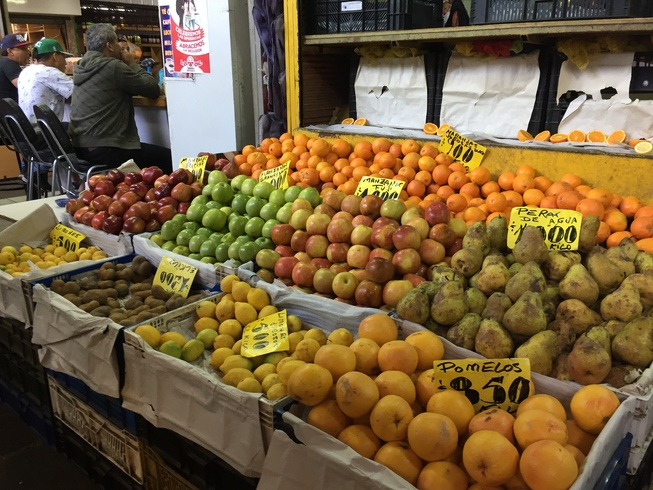precio: (429, 352, 538, 427), (508, 202, 585, 269), (244, 312, 299, 361), (436, 125, 487, 173), (356, 173, 410, 216), (154, 257, 198, 305), (47, 222, 89, 261), (257, 160, 298, 197), (177, 155, 212, 192)
